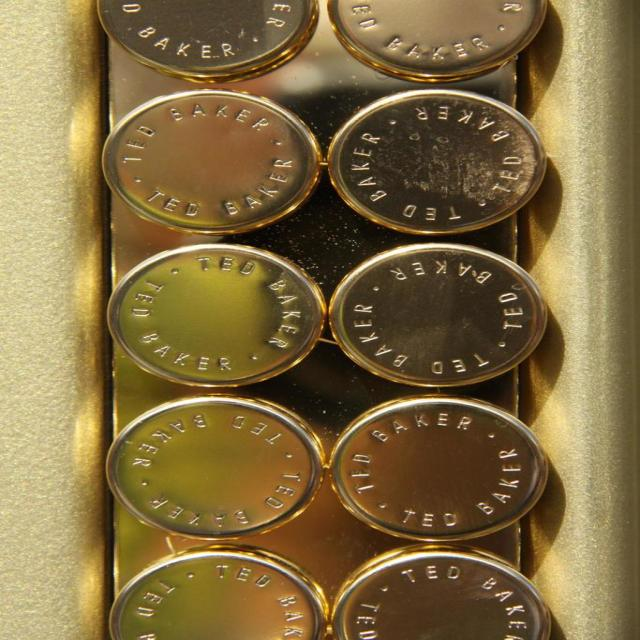Coin: (109, 0, 555, 640), (336, 245, 546, 392)
